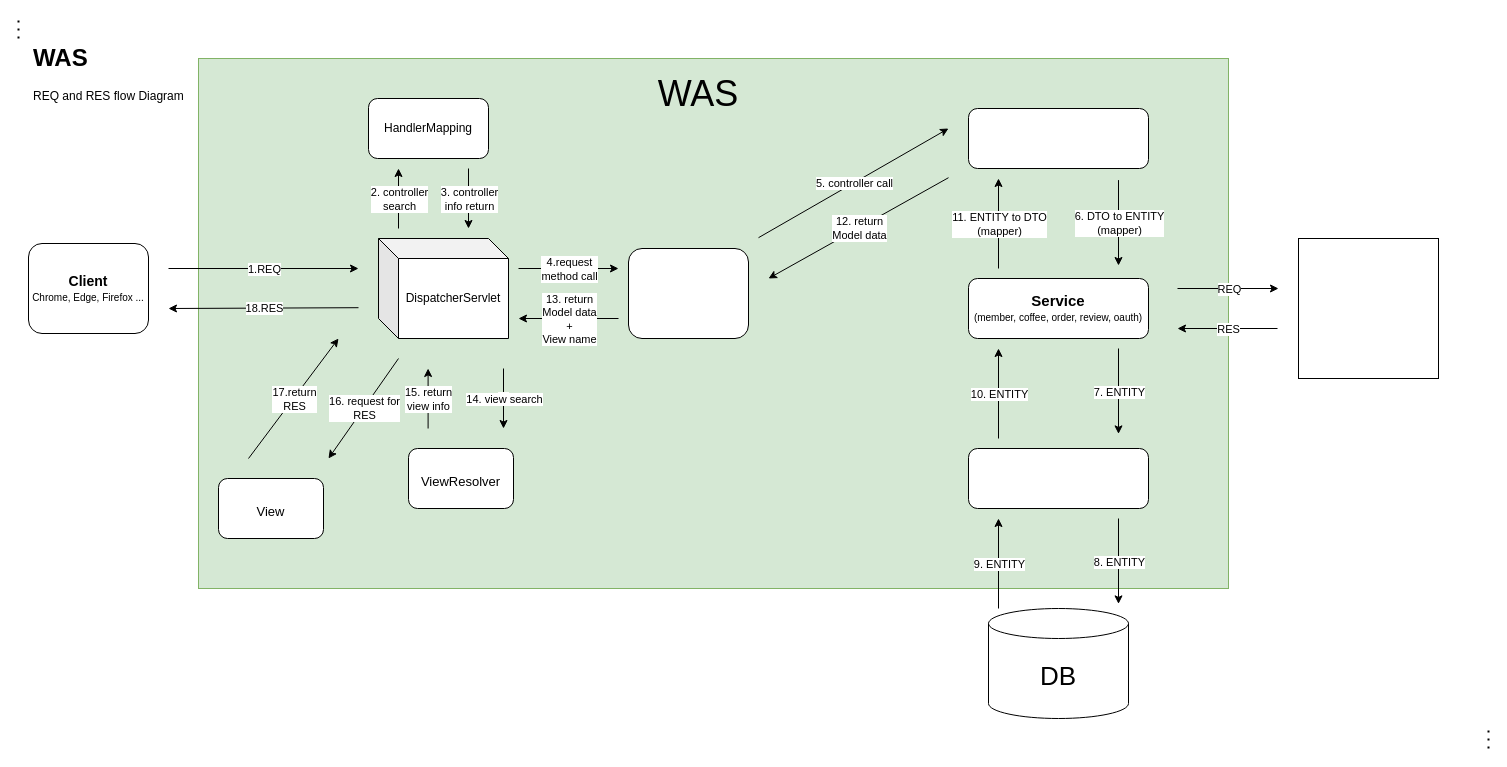
Some shapes in this 1507 by 767 pixel diagram are drawn without their labels. Here are the shapes that lost their labels. From the top down, the centre of each, then its label:
[1058,138]: Controller (member, coffee, order, review, oauth)
[688,293]: HandlerAdapter
[1368,308]: OAuth 2.0 provider
[1058,478]: DAO (repository) (member, coffee, order, review)
